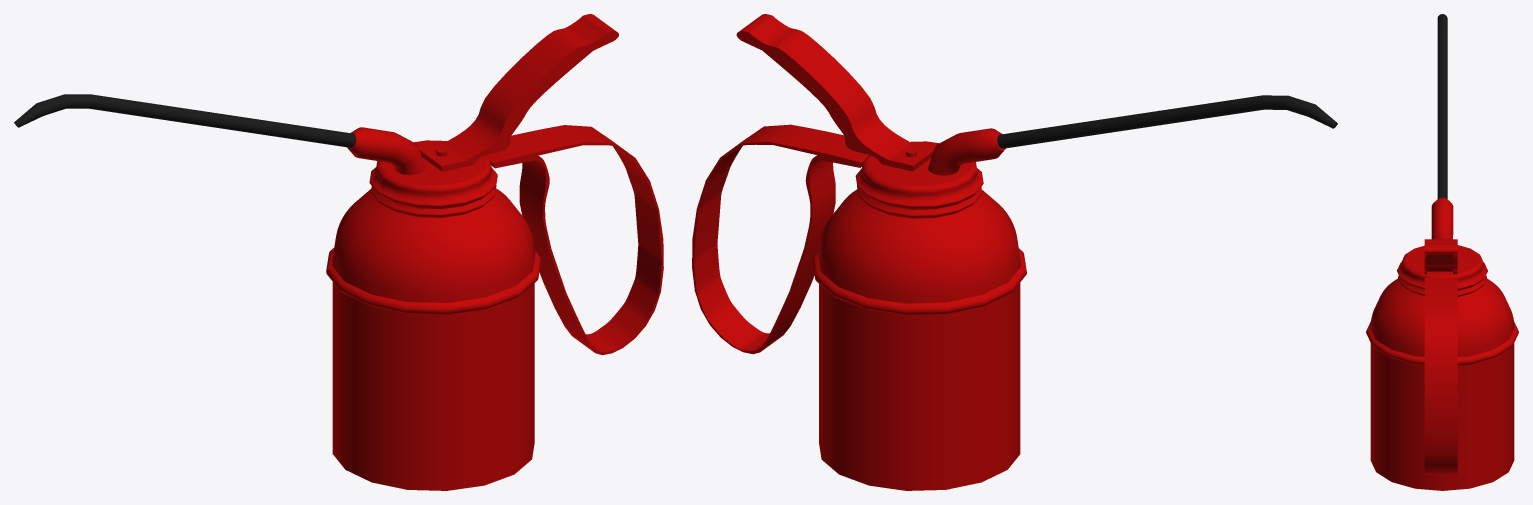
File: LubricateMesh.fbx
3 renders of one model, left to right at view 1: azimuth 30°, elevation 25°; view 2: azimuth 150°, elevation 25°; view 3: azimuth 270°, elevation 25°, orthographic. The views are drawn at different scales.
Parts seen in each view (by area): view 1: Line001, Line003, Line002, Cylinder002, Cylinder001; view 2: Line001, Line003, Line002, Cylinder002, Cylinder001; view 3: Line001, Line003, Cylinder002, Line002, Cylinder001.
Part boxes in pixels (x1=…): Line001: x1=326, y1=140, x2=541, y2=490; Line003: x1=485, y1=125, x2=663, y2=355; Line002: x1=419, y1=14, x2=618, y2=171; Cylinder002: x1=14, y1=94, x2=355, y2=147; Cylinder001: x1=347, y1=127, x2=425, y2=174; Line001: x1=812, y1=141, x2=1026, y2=490; Line003: x1=692, y1=124, x2=868, y2=354; Line002: x1=736, y1=14, x2=934, y2=171; Cylinder002: x1=997, y1=95, x2=1337, y2=148; Cylinder001: x1=928, y1=128, x2=1005, y2=175; Line001: x1=1366, y1=245, x2=1518, y2=490; Line003: x1=1424, y1=278, x2=1457, y2=474; Cylinder002: x1=1437, y1=14, x2=1447, y2=198; Line002: x1=1424, y1=239, x2=1457, y2=274; Cylinder001: x1=1431, y1=197, x2=1453, y2=239.
Size of the model in its own units: 30.61 by 20.38 by 9.04.
